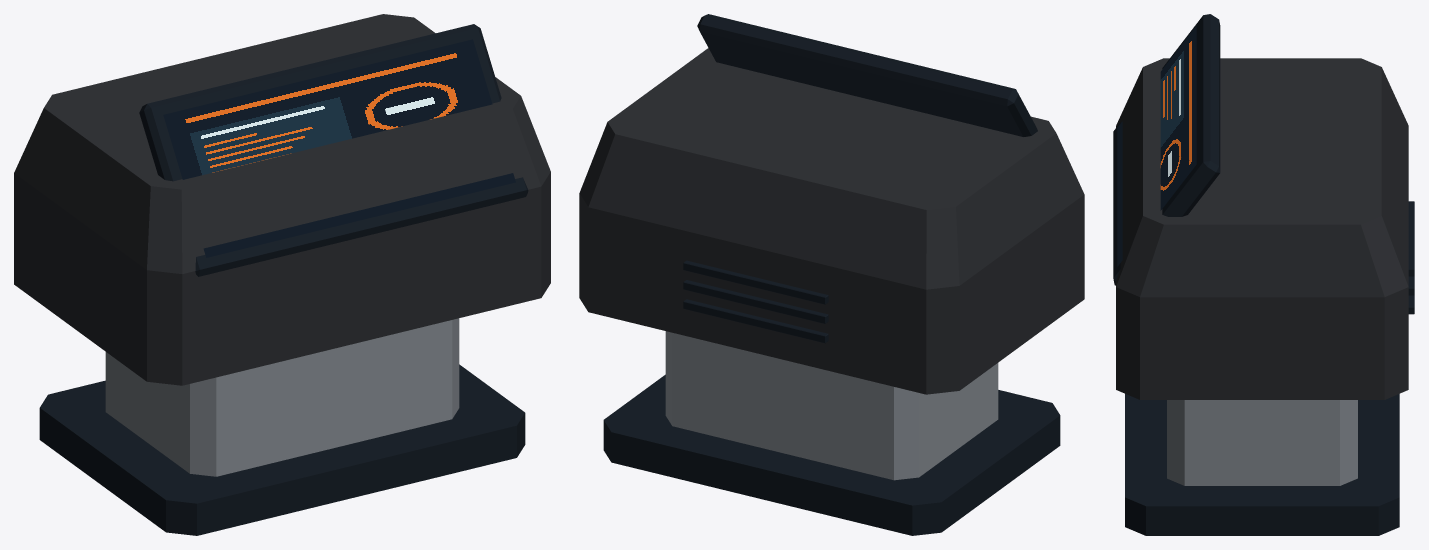
Rendered from terminal-console-compact-falkenfeld-kessler.glb.
3 views of the same model, side by side, from view 1: azimuth 30°, elevation 25°; view 2: azimuth 150°, elevation 25°; view 3: azimuth 270°, elevation 25° (orthographic). The views are drawn at different scales.
Visible parts, largest first — view 1: Housing, Rubber, Trim, Display; view 2: Housing, Rubber, Trim; view 3: Housing, Rubber, Trim, Display.
Boxes of the visible parts, x1,y1,x2,y2 form: Housing: (14,14,550,385); Rubber: (39,24,528,535); Trim: (105,318,459,476); Display: (163,39,515,257); Housing: (579,48,1084,394); Rubber: (603,14,1060,535); Trim: (665,331,998,480); Housing: (1116,58,1408,399); Rubber: (1113,14,1414,535); Trim: (1167,400,1357,485); Display: (1117,25,1196,266).
Size of the model in its own units: 0.576 by 0.5438 by 0.4037.
Materials: 5 (1 with a texture image).
